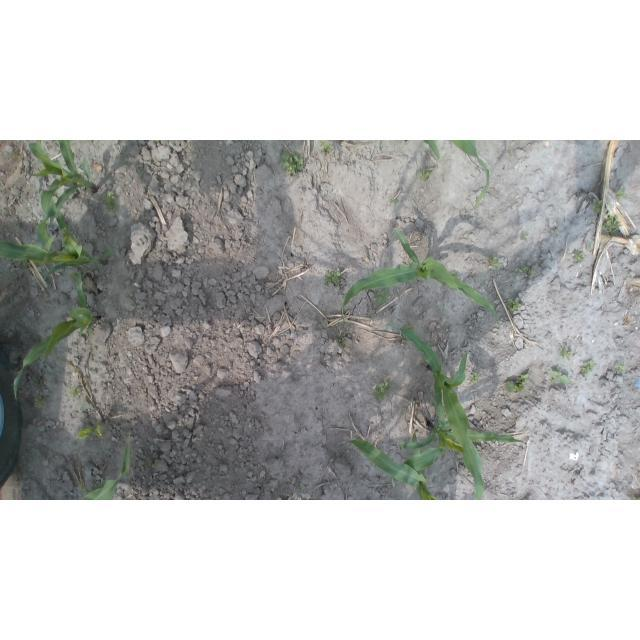Maize: (380, 322, 485, 500), (341, 226, 500, 325), (14, 271, 101, 402), (390, 417, 527, 484), (0, 205, 112, 280), (27, 141, 97, 252), (341, 430, 440, 500), (404, 140, 492, 206), (81, 433, 132, 500)
Weeds: (280, 152, 304, 177), (505, 373, 529, 393), (101, 190, 120, 213), (602, 214, 621, 235), (551, 366, 570, 386), (374, 381, 392, 401), (324, 270, 342, 287), (416, 167, 434, 182), (77, 427, 95, 440), (506, 297, 522, 311), (580, 361, 594, 376), (33, 397, 48, 410), (374, 290, 389, 303), (559, 345, 571, 361), (320, 140, 333, 154), (592, 199, 604, 214), (68, 386, 82, 398), (489, 255, 500, 269), (617, 186, 628, 200), (519, 265, 534, 275), (69, 270, 84, 280), (614, 363, 626, 375), (573, 250, 584, 263), (470, 372, 479, 385), (96, 426, 105, 436), (447, 271, 458, 279), (388, 198, 400, 204), (339, 338, 347, 345), (521, 232, 528, 240), (147, 459, 154, 467), (296, 483, 302, 491), (585, 243, 591, 250), (632, 496, 640, 501), (254, 322, 259, 328)
